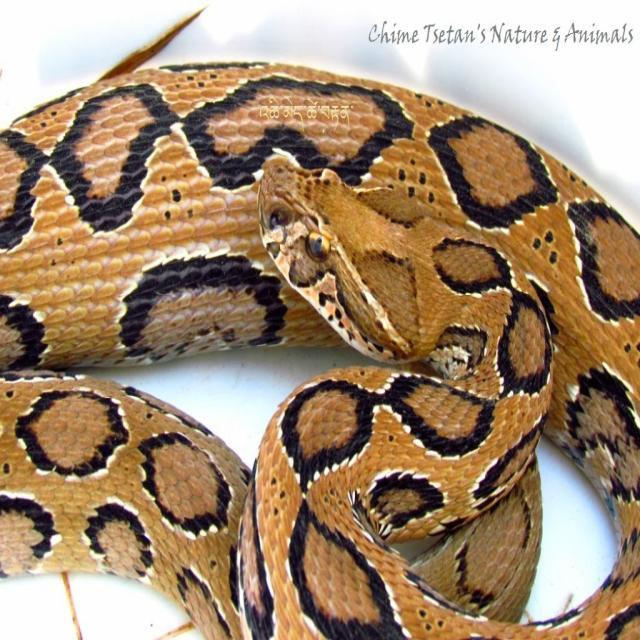Snake: (1, 7, 638, 638)
